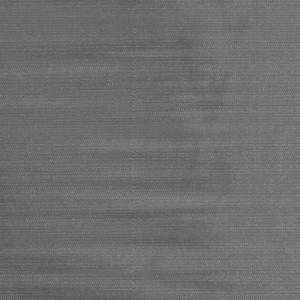Wrinkle: (1, 170, 300, 300)
